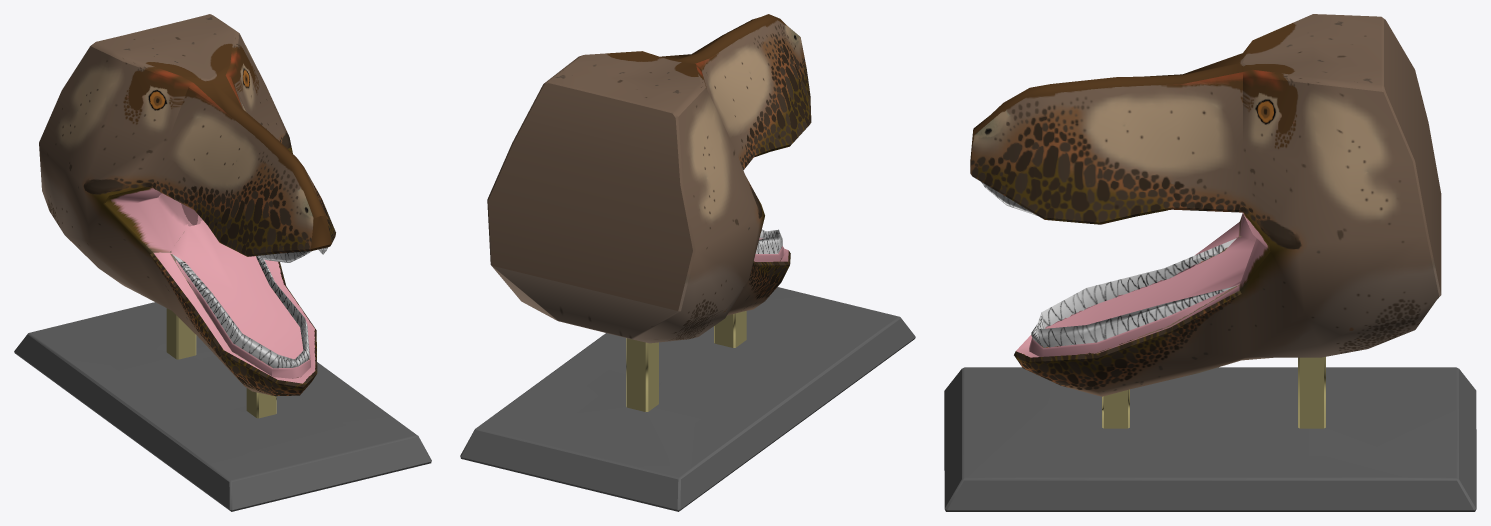
The model's file is Figure_2.fbx.
3 views of the same model, side by side, from view 1: azimuth 30°, elevation 25°; view 2: azimuth 150°, elevation 25°; view 3: azimuth 270°, elevation 25° (orthographic). The views are drawn at different scales.
Parts seen in each view (by area): view 1: polySurface1; view 2: polySurface1; view 3: polySurface1.
Part boxes in pixels (x1,y1,x2,y2): polySurface1: [14, 14, 431, 511]; polySurface1: [460, 14, 915, 511]; polySurface1: [944, 14, 1476, 511].
Size of the model in its own units: 9.62 by 14.96 by 17.73.
3 materials, 1 textured.
